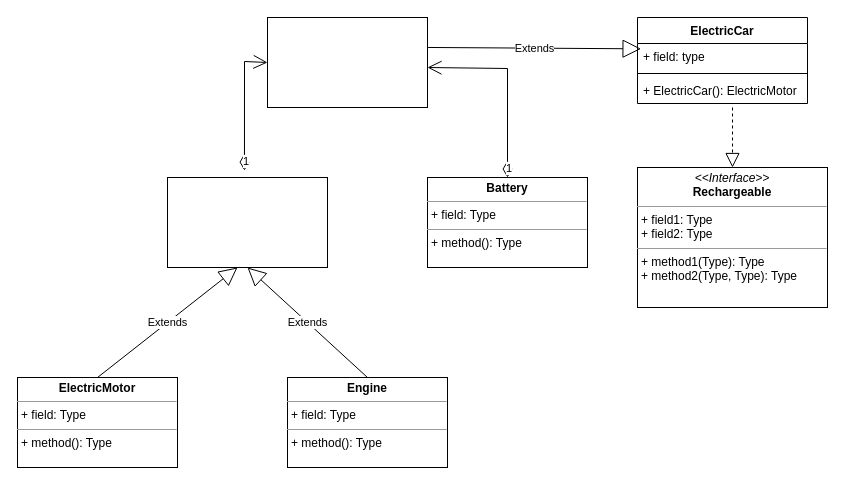
Some shapes in this 845 by 485 pixel diagram are drawn without their labels. The shapes that lost their labels are listed below. From the top down, each one's box as (x1, y1, x2, y2) in pixels, then its label:
(266, 16, 428, 108): Car + field: Type + method(): Type
(166, 176, 328, 268): Motor {abstract} + field: Type + method(): Type
